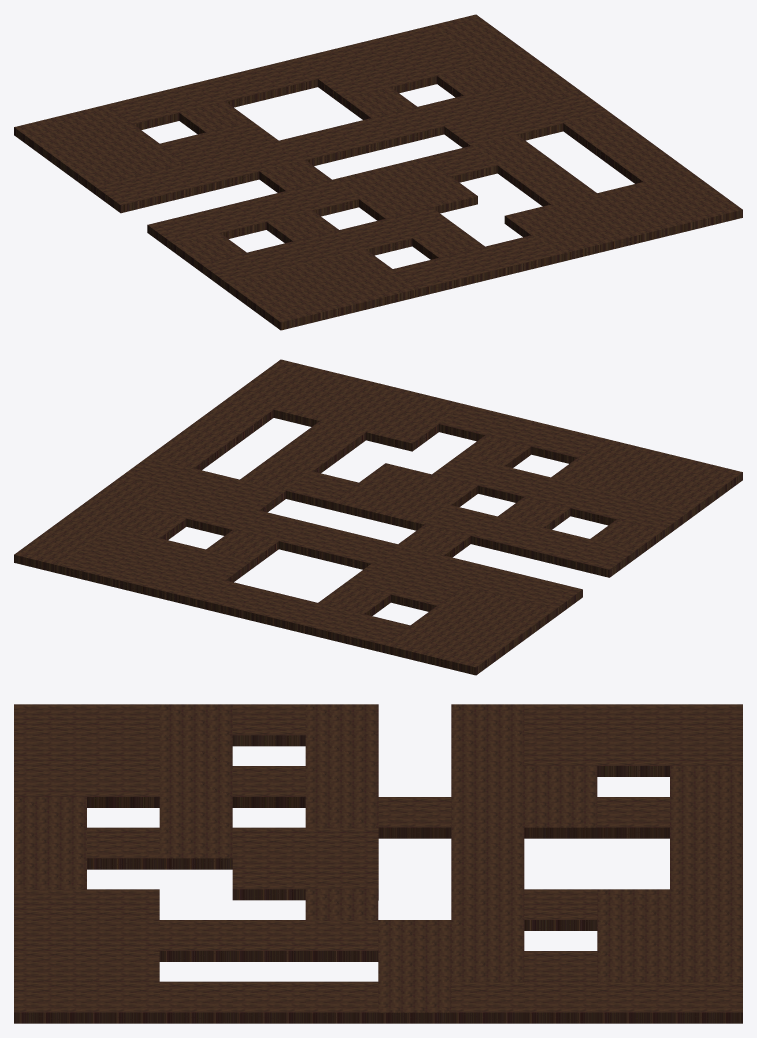
The model's file is floor.fbx.
3 views of the same model, one above another, from view 1: azimuth 30°, elevation 25°; view 2: azimuth 150°, elevation 25°; view 3: azimuth 270°, elevation 25° (orthographic). The views are drawn at different scales.
Parts seen in each view (by area): view 1: Cube; view 2: Cube; view 3: Cube.
Boxes of the visible parts, box(x1,y1,x2,y2) form: Cube: box(14, 14, 742, 330); Cube: box(14, 359, 742, 675); Cube: box(14, 704, 742, 1023).
Bounding box in the file's own units: 600 × 600 × 10.
1 material, 1 textured.
